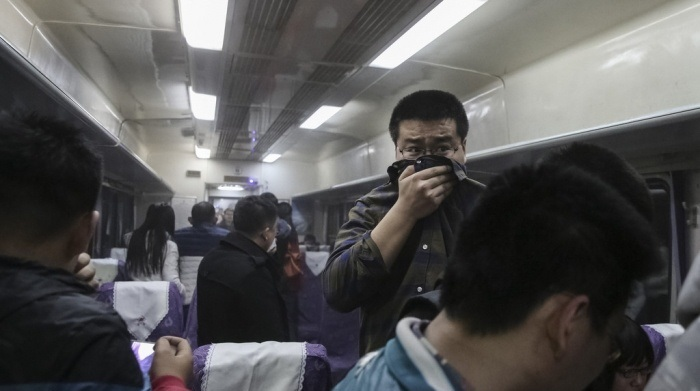face: (399, 119, 463, 197)
